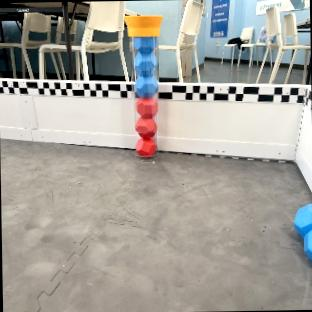Loader: (125, 14, 161, 160)
V5_BLUE: (134, 35, 157, 95), (295, 203, 312, 260)
V5_RED: (136, 96, 156, 117), (135, 116, 156, 136), (136, 136, 155, 156)
